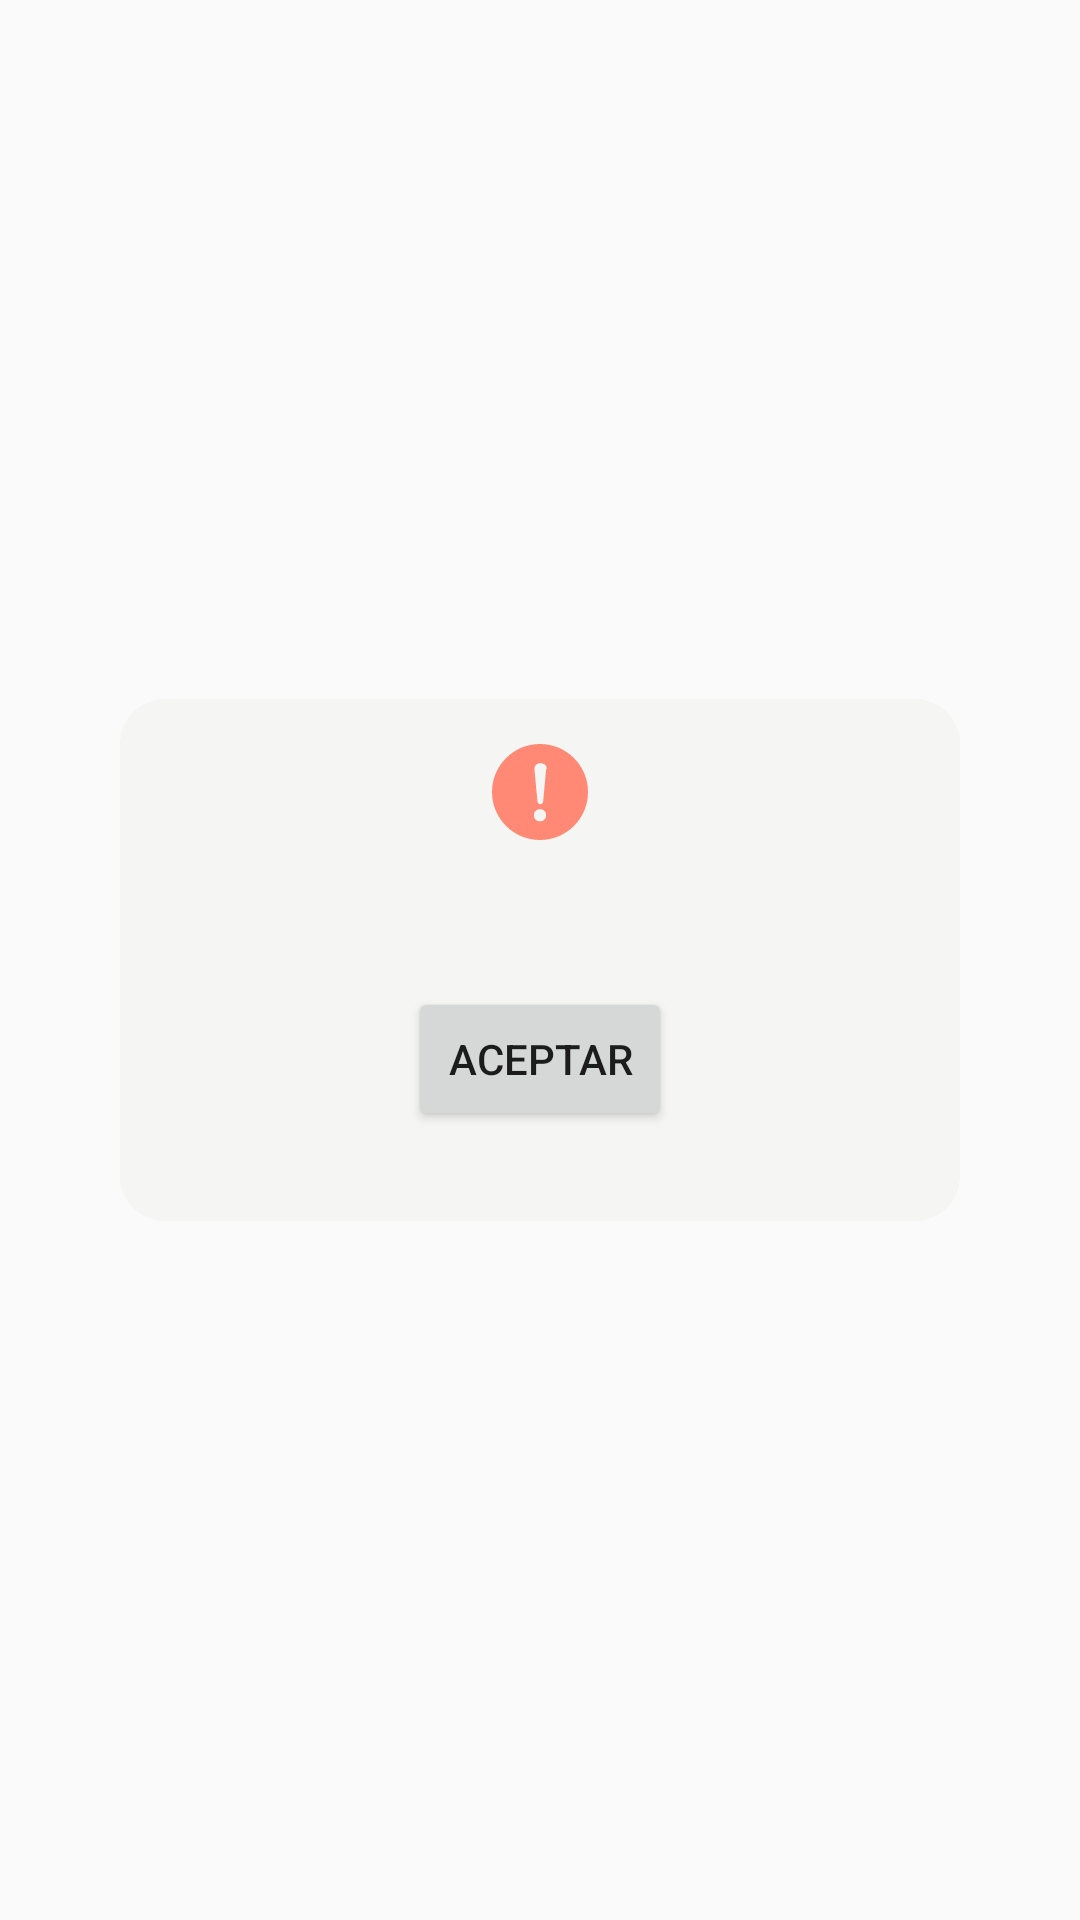

Icon click points for this 1080w x 1920h phone screenshot, format point (x, y):
alert: point (540, 792)
